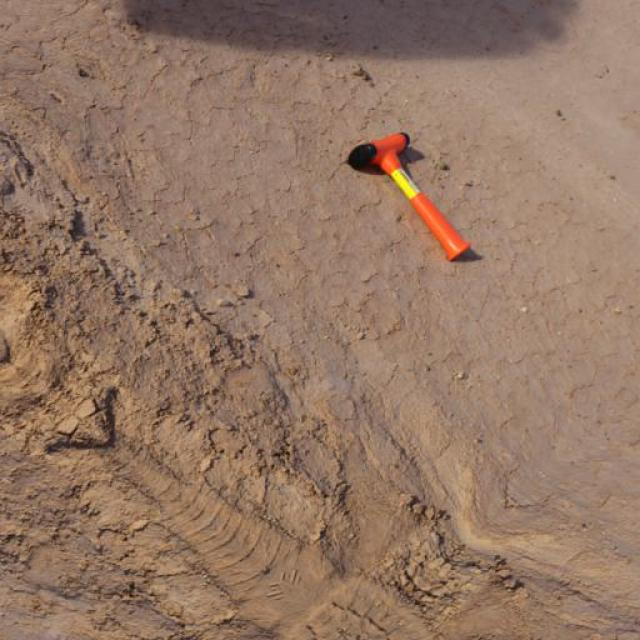mallet: (348, 130, 473, 261)
